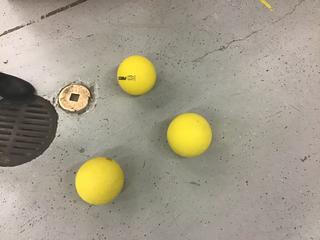power_cell: (77, 156, 128, 205), (165, 107, 212, 160), (114, 55, 162, 95)
